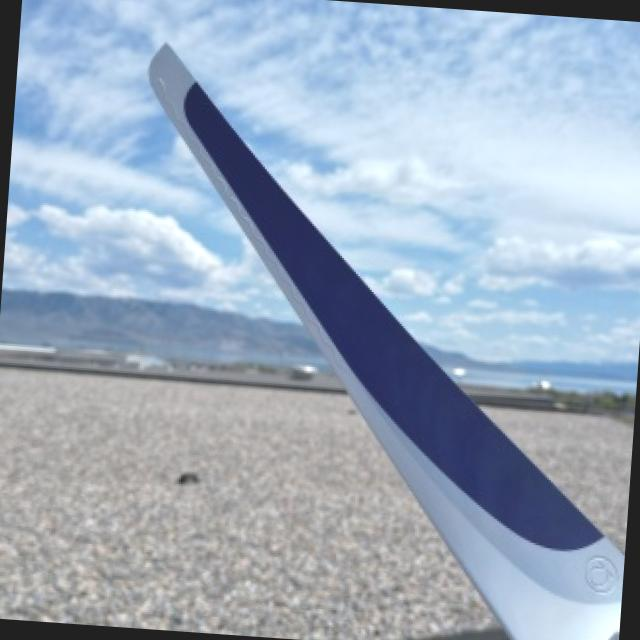healthy: (151, 44, 624, 640)
